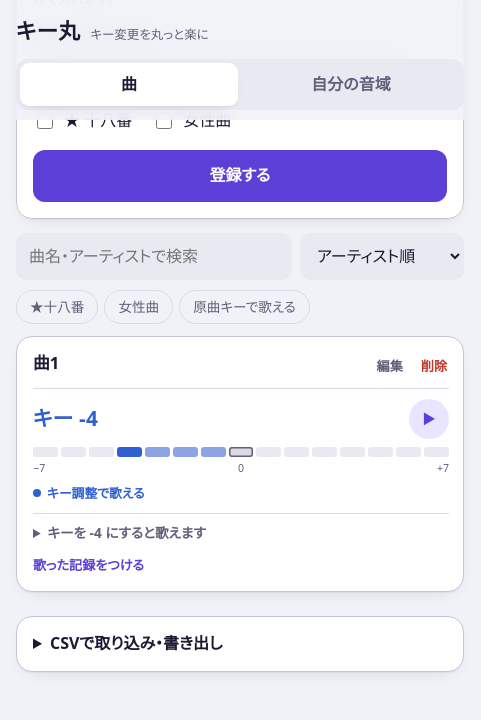
一覧と編集のそのほかの操作 › 歌った記録で、歌ったキーを選び直して記録できる
(page scrolled)
Click the button "歌った記録をつける" at [89, 566], box [25,550,152,581]
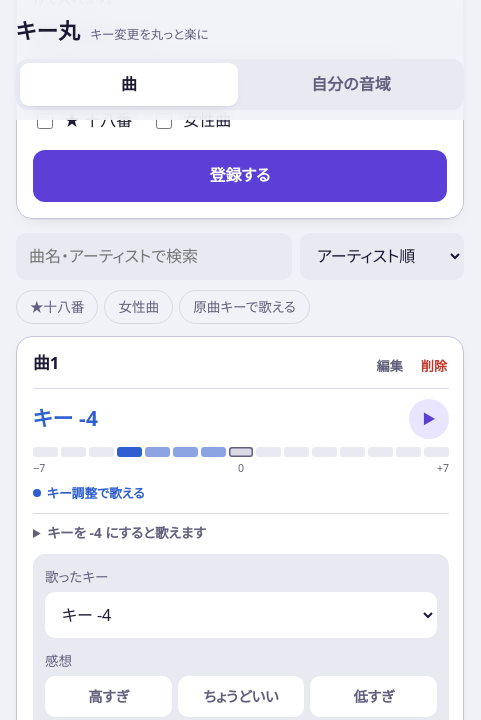
Select "1オクターブ下・キー +3" in the dropdown labelled "歌ったキー" at [241, 615], box [45,592,437,638]
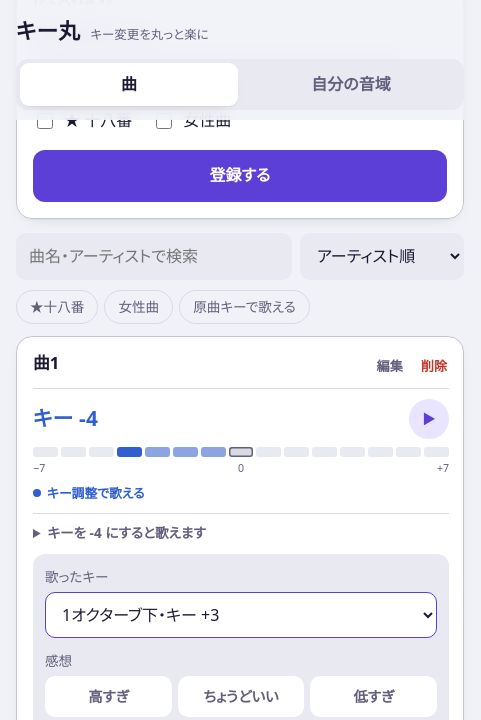
Click the radio button labelled "ちょうどいい" at [241, 696], box [178,676,304,717]
(page scrolled)
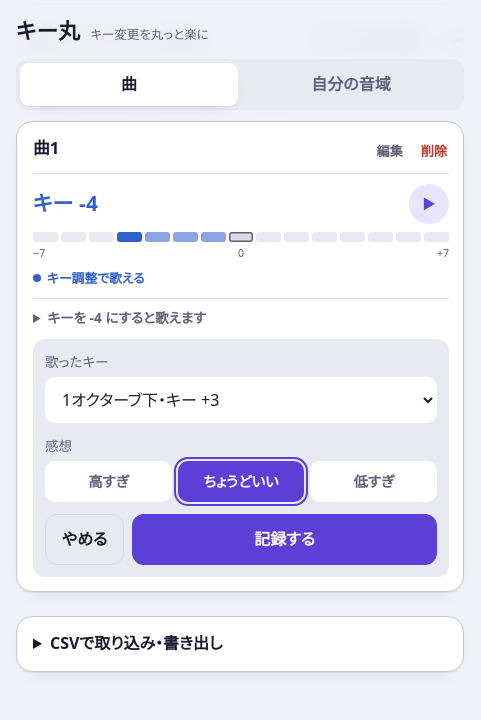
Click the button "記録する" at [285, 539], box [132,514,437,565]
(page scrolled)
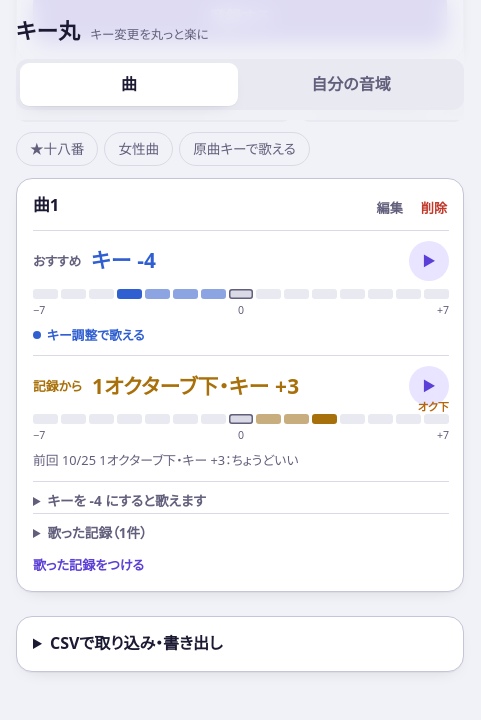
Expected: the text with test id "record-key" reads "1オクターブ下・キー +3", [92,372,299,400]
